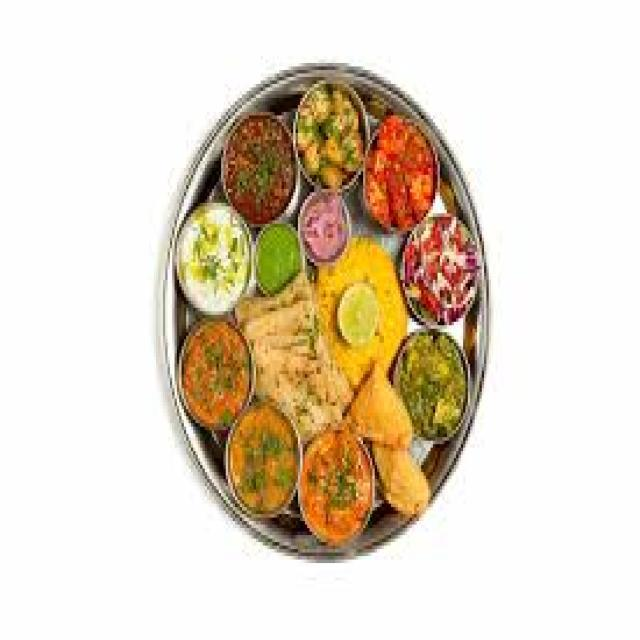dal: (397, 331, 477, 441)
papad: (242, 279, 342, 426)
pickle: (357, 111, 447, 243)
raita: (169, 199, 258, 317)
veg-fry: (291, 420, 381, 547), (169, 320, 259, 434)
